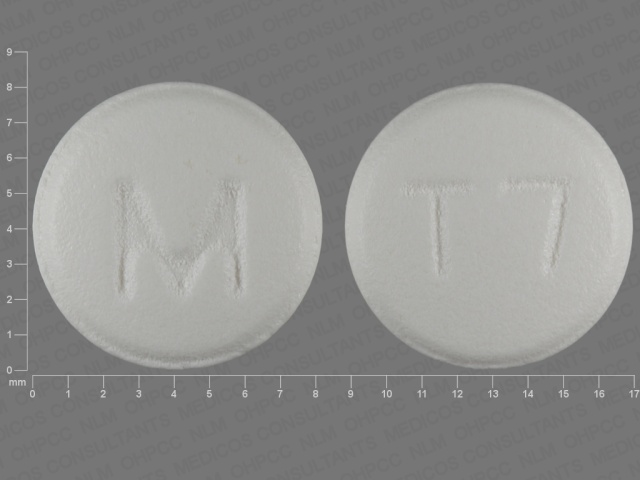7: (497, 173, 583, 282)
M: (110, 172, 250, 308)
T: (396, 174, 478, 280)
